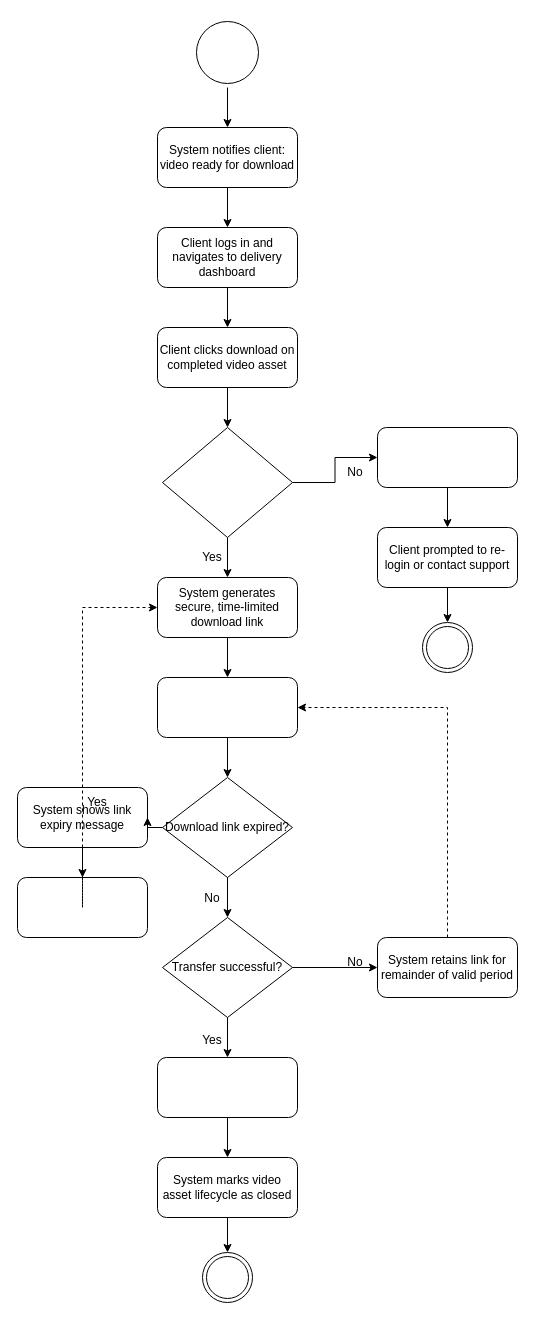
Some shapes in this 535 by 1320 pixel diagram are drawn without their labels. Here are the shapes that lost their labels. From the top down, the box of each, then its label:
(376, 426, 518, 488): System denies access, shows authorization error
(162, 426, 292, 538): Auth & ownership verified?
(156, 676, 298, 738): Client clicks download link, file transfer begins
(16, 876, 148, 938): Client requests new download link
(156, 1056, 298, 1118): System logs download event: Client ID, Video ID, timestamp
